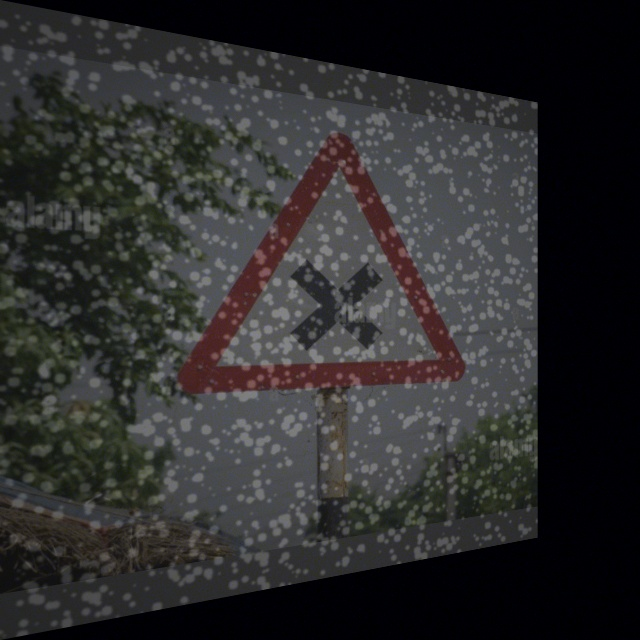Cross_Road: (176, 107, 467, 394)
